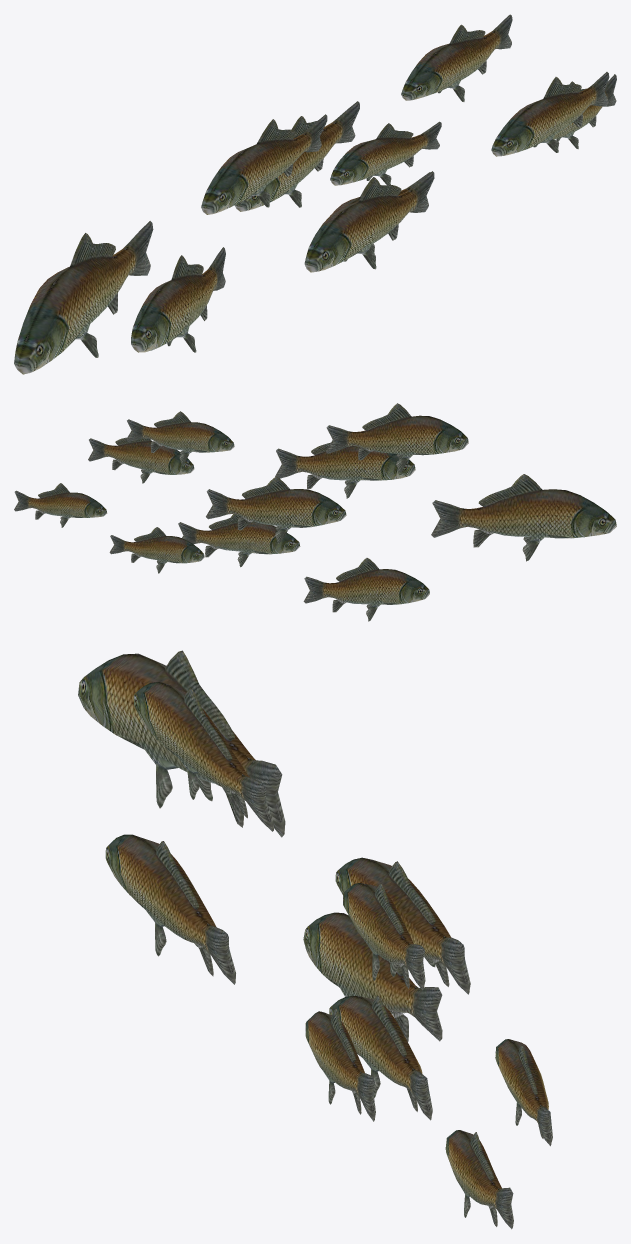
The model's file is Fish School.glb.
The picture shows the model from 3 angles, top to bottom: view 1: azimuth 30°, elevation 25°; view 2: azimuth 150°, elevation 25°; view 3: azimuth 270°, elevation 25°; orthographic projection. The views are drawn at different scales.
Visible parts, largest first — view 1: fish_0_1; view 2: fish_0_1; view 3: fish_0_1.
Part boxes in pixels (x1,y1,x2,y2): fish_0_1: (14, 14, 616, 374); fish_0_1: (14, 403, 616, 621); fish_0_1: (78, 650, 552, 1229).
Size of the model in its own units: 3.27 by 1.12 by 1.36.
1 material, 1 textured.
